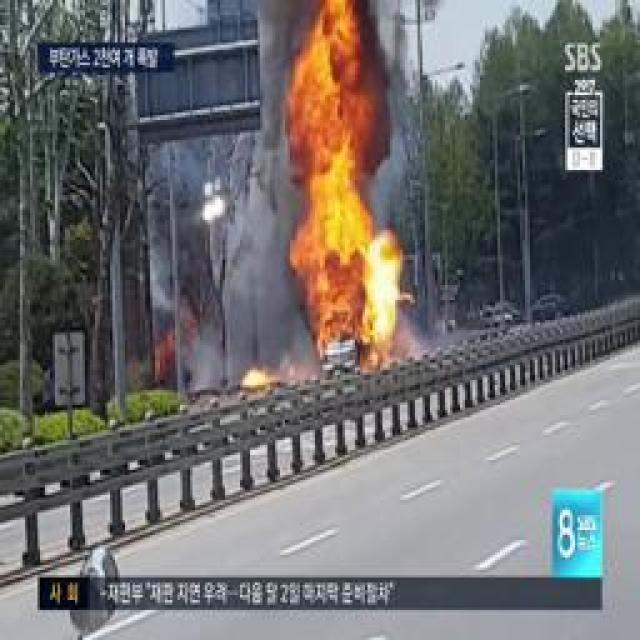Fire: (321, 236, 396, 349), (316, 166, 366, 231), (244, 372, 284, 389)
